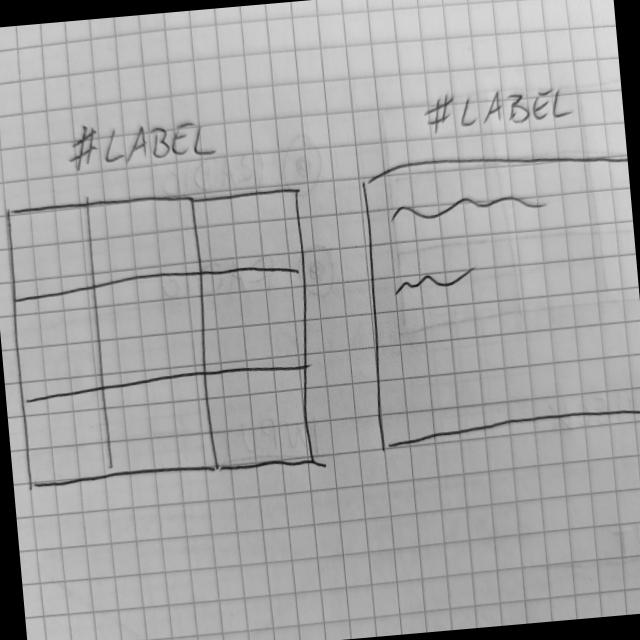label: (65, 108, 219, 178), (422, 76, 576, 135)
table: (0, 180, 329, 496)
textarea: (354, 141, 640, 451)
